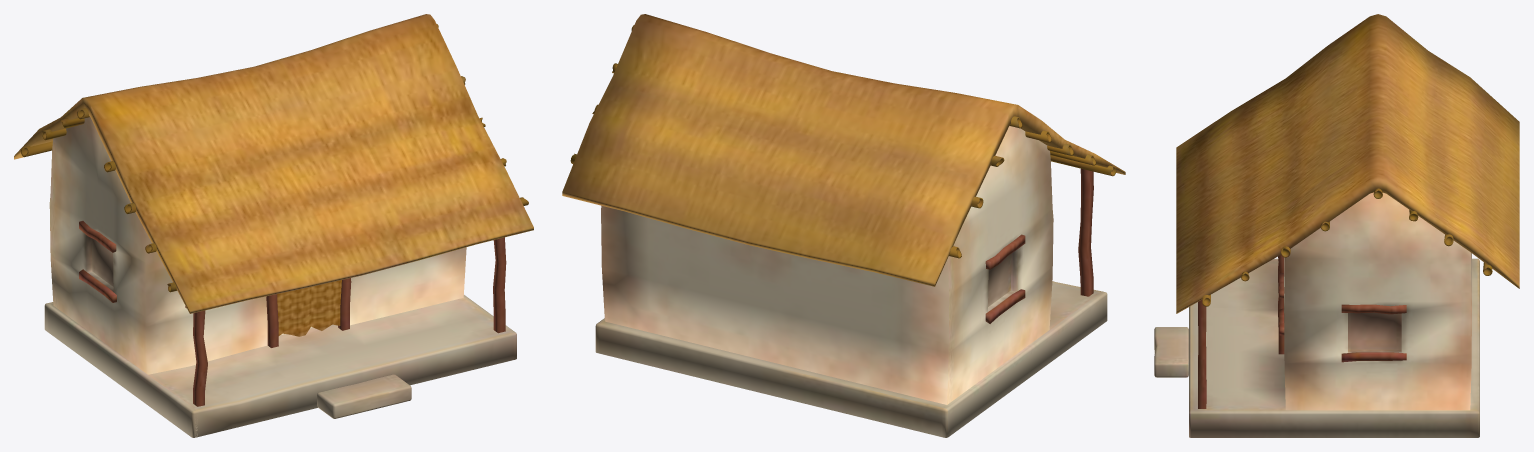
The model's file is village house for sketchfab.fbx.
3 renders of one model, left to right at view 1: azimuth 30°, elevation 25°; view 2: azimuth 150°, elevation 25°; view 3: azimuth 270°, elevation 25°, orthographic. The views are drawn at different scales.
Parts seen in each view (by area): view 1: House_LOD0; view 2: House_LOD0; view 3: House_LOD0.
Part boxes in pixels (bbox=[...]): House_LOD0: bbox=[14, 14, 533, 437]; House_LOD0: bbox=[562, 14, 1125, 437]; House_LOD0: bbox=[1154, 14, 1519, 437].
Size of what is drawn, in the model's own units: 697 by 502 by 628.
Materials: 1 (1 with a texture image).
